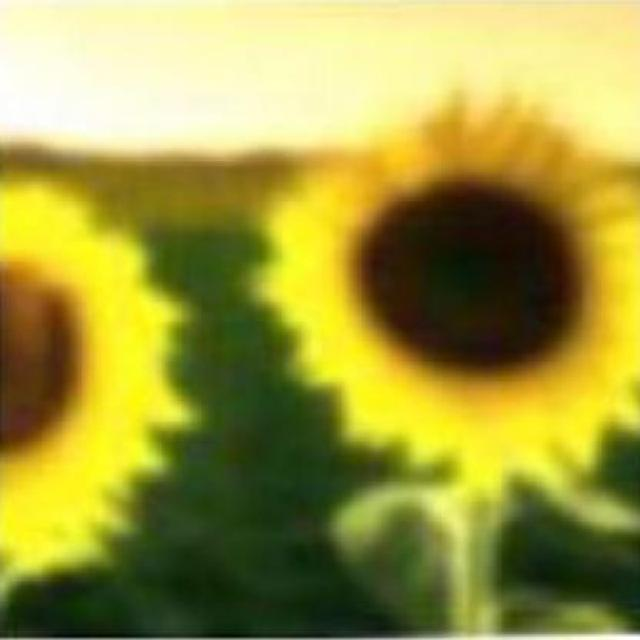sunflower: (254, 94, 640, 466), (1, 190, 184, 598)
